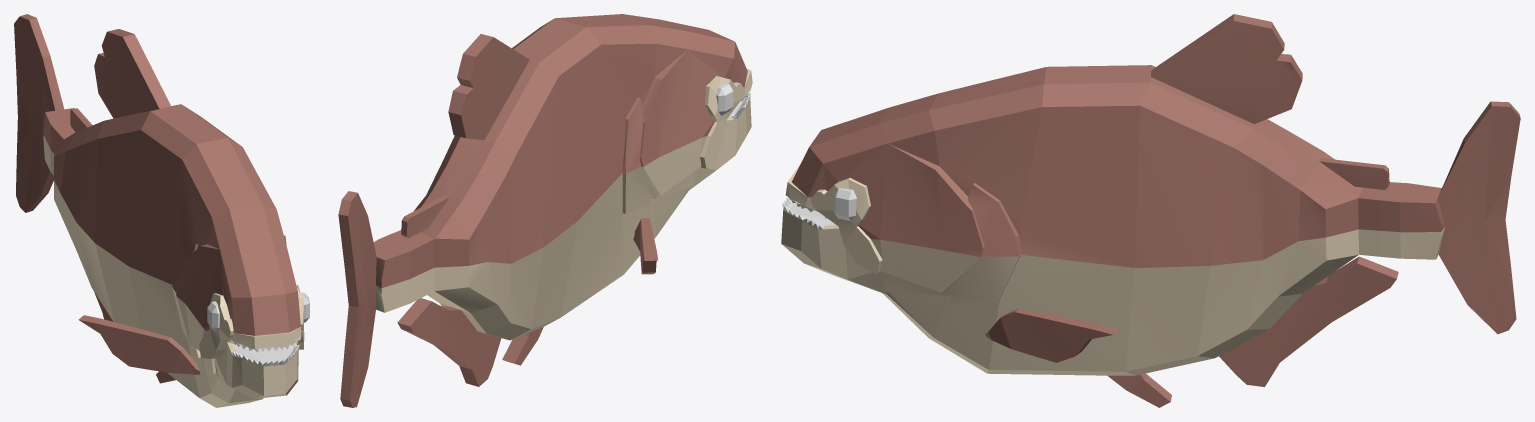
Rendered from nage-piranha.glb.
3 renders of one model, left to right at view 1: azimuth 30°, elevation 25°; view 2: azimuth 150°, elevation 25°; view 3: azimuth 270°, elevation 25°, orthographic. The views are drawn at different scales.
Parts seen in each view (by area): view 1: Cube, Cube_1, Cube_2, Cube_3; view 2: Cube, Cube_1, Cube_2; view 3: Cube, Cube_1, Cube_2.
Part boxes in pixels (box(x1,y1,x2,y2)): Cube: box(14, 14, 300, 383); Cube_1: box(43, 135, 304, 407); Cube_2: box(207, 292, 309, 363); Cube_3: box(230, 337, 300, 366); Cube: box(338, 14, 747, 407); Cube_1: box(376, 68, 752, 340); Cube_2: box(706, 83, 745, 116); Cube: box(791, 14, 1520, 407); Cube_1: box(781, 164, 1444, 375); Cube_2: box(790, 188, 856, 225).
Size of the model in its own units: 0.1116 by 0.1695 by 0.2963.
